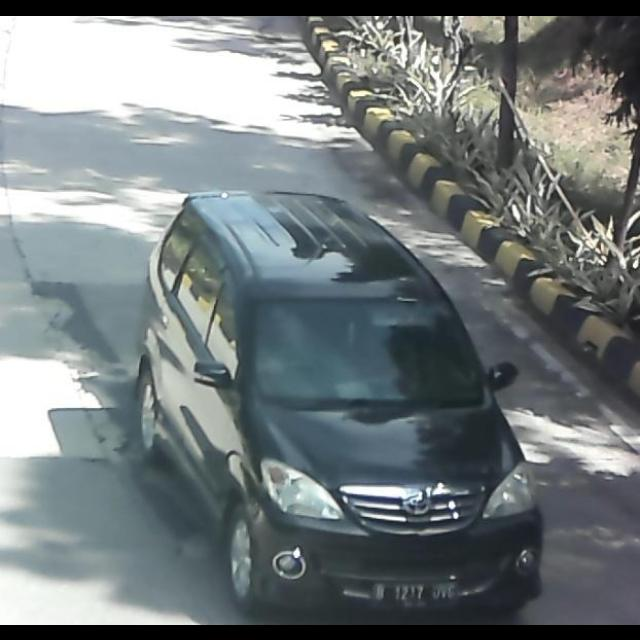plate: (371, 578, 461, 610)
